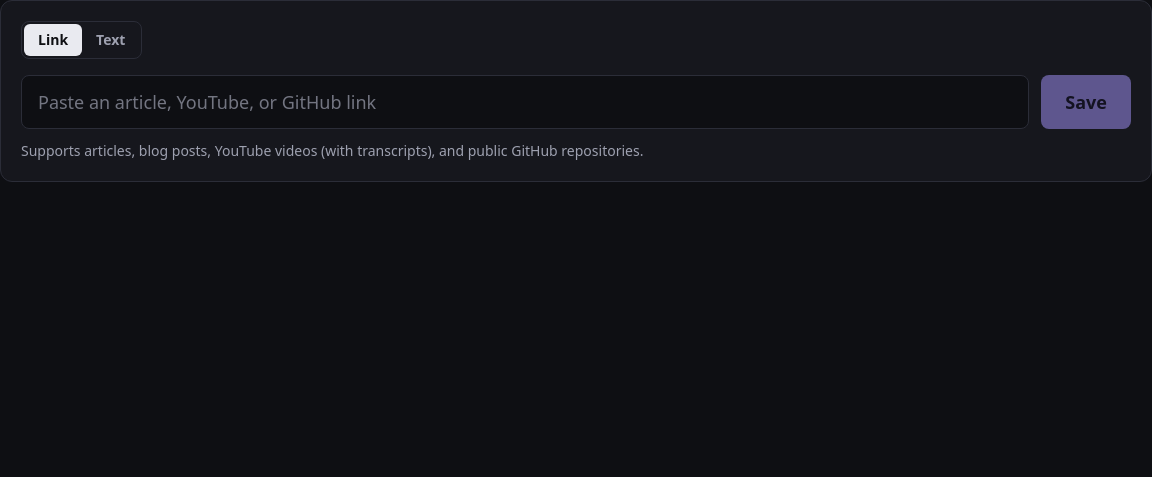
Test: saving pasted text › needs enough text before it can be saved, and says how much
The width and height of the screenshot is (1152, 477).
Click the button "Text".
click(111, 40)  # box [82,24,139,56]
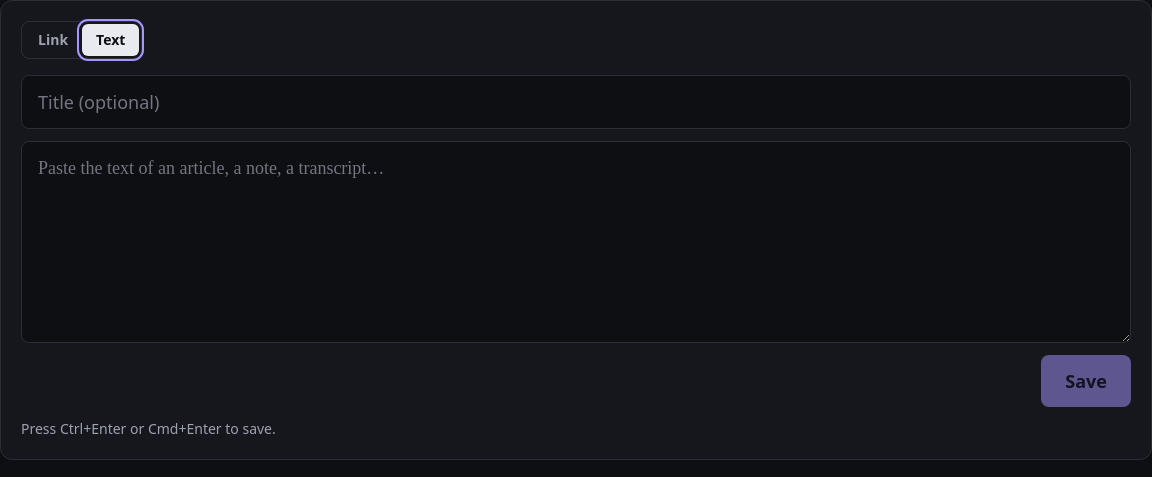
Expected: the button "Save" is disabled, [1041,354,1131,406]
Type "too short" into the text box named "Text to save".
click(576, 242); type("too short")  # box [21,141,1131,342]
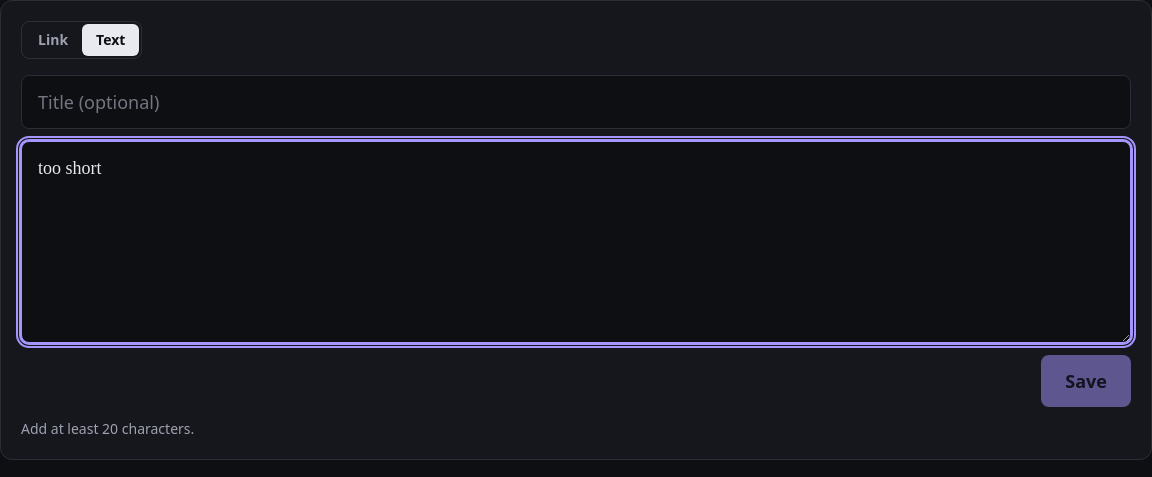
Expected: the button "Save" is disabled, [1041,354,1131,406]
Now the text "Add at least 20 characters." is shown, box [21,418,194,438]
Replace the text in the text box named "Text to save" with "Entropy measures disorder in a system. It never decreases in an isolated one." at (576, 242), box [21,141,1131,342]
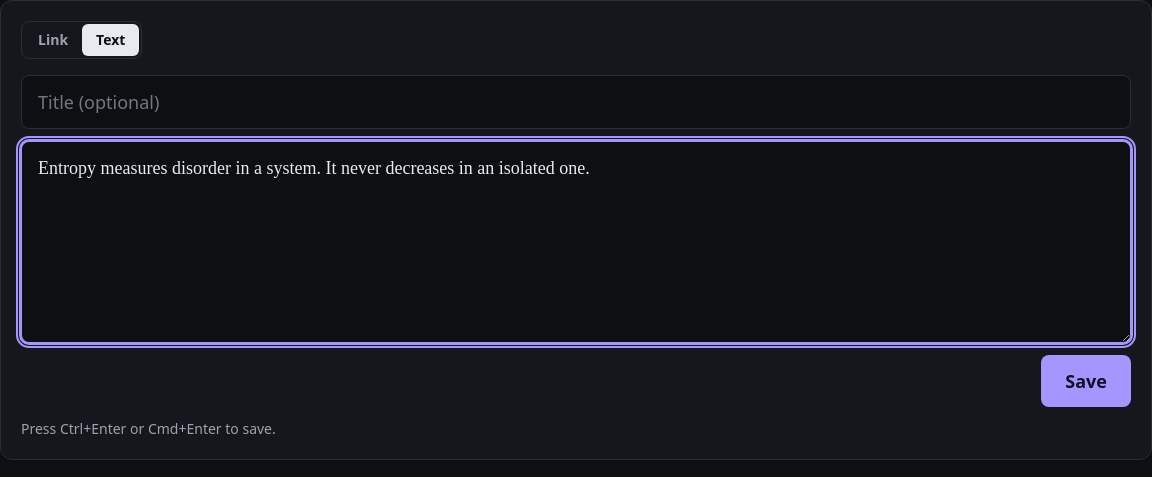
Now the button "Save" is enabled, box [1041,354,1131,406]
